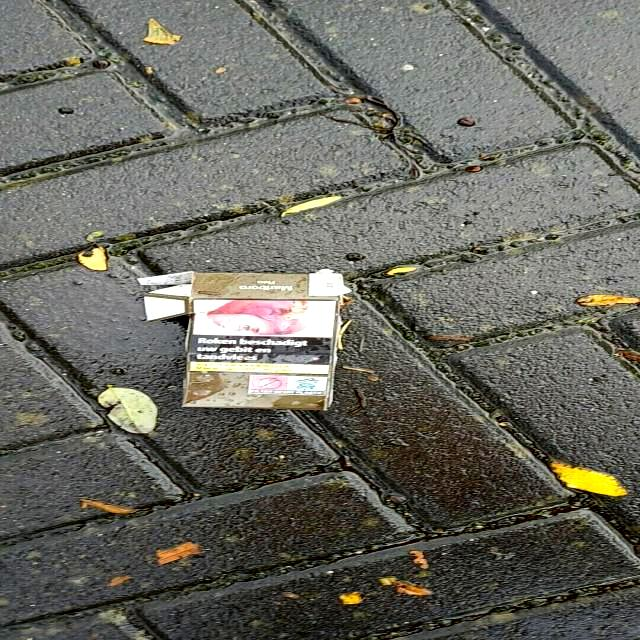Paper: (134, 268, 354, 412)
